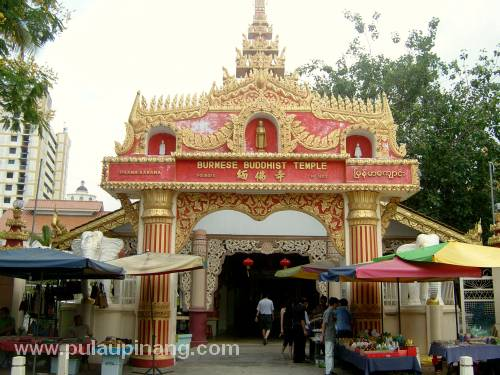Buddhist Temple: (111, 7, 393, 327)
